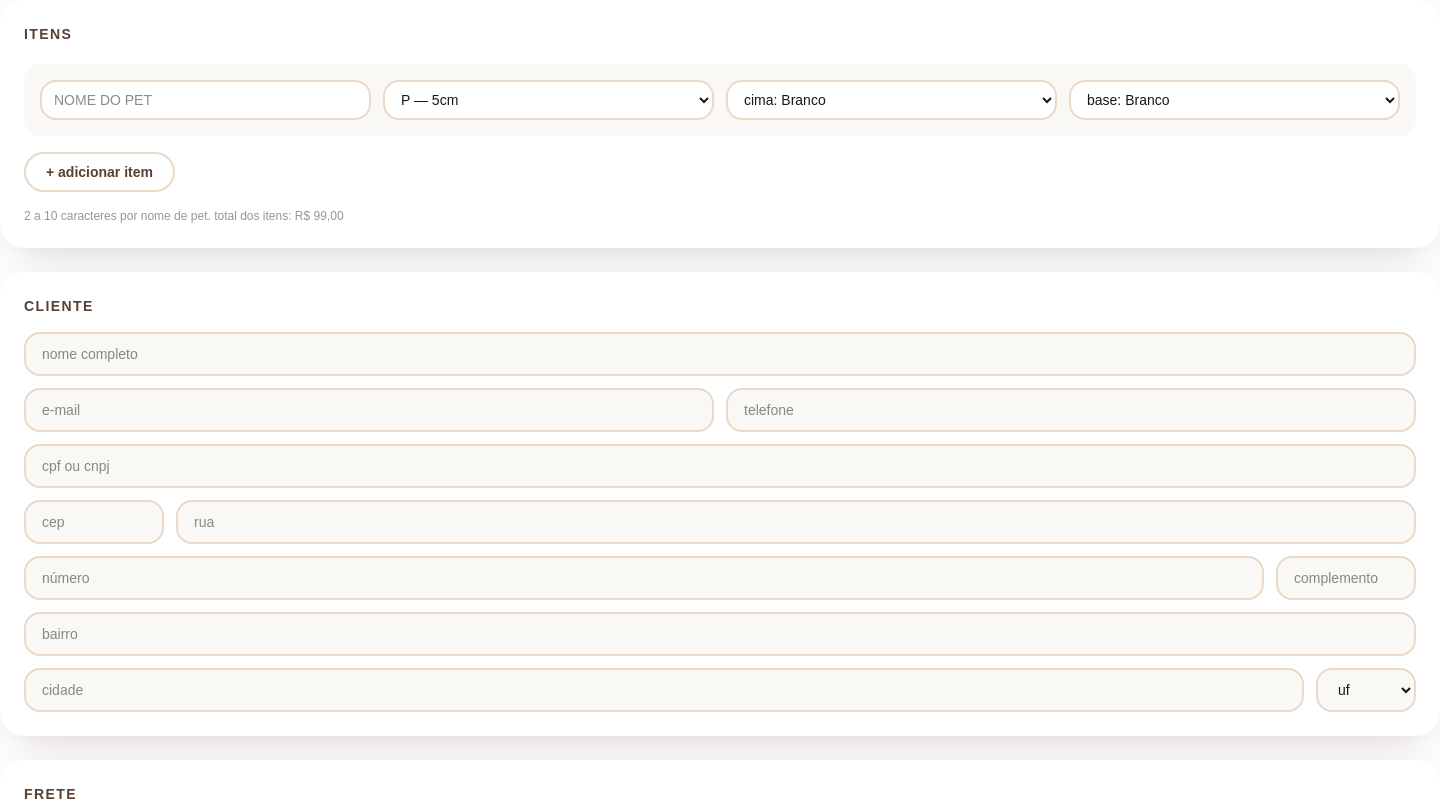
NovoPedidoForm — itens › trocar o tamanho recalcula o total
Select "G — 15cm" in the 1st dropdown showing "P — 5cm": (548, 100) [383,80,714,120]
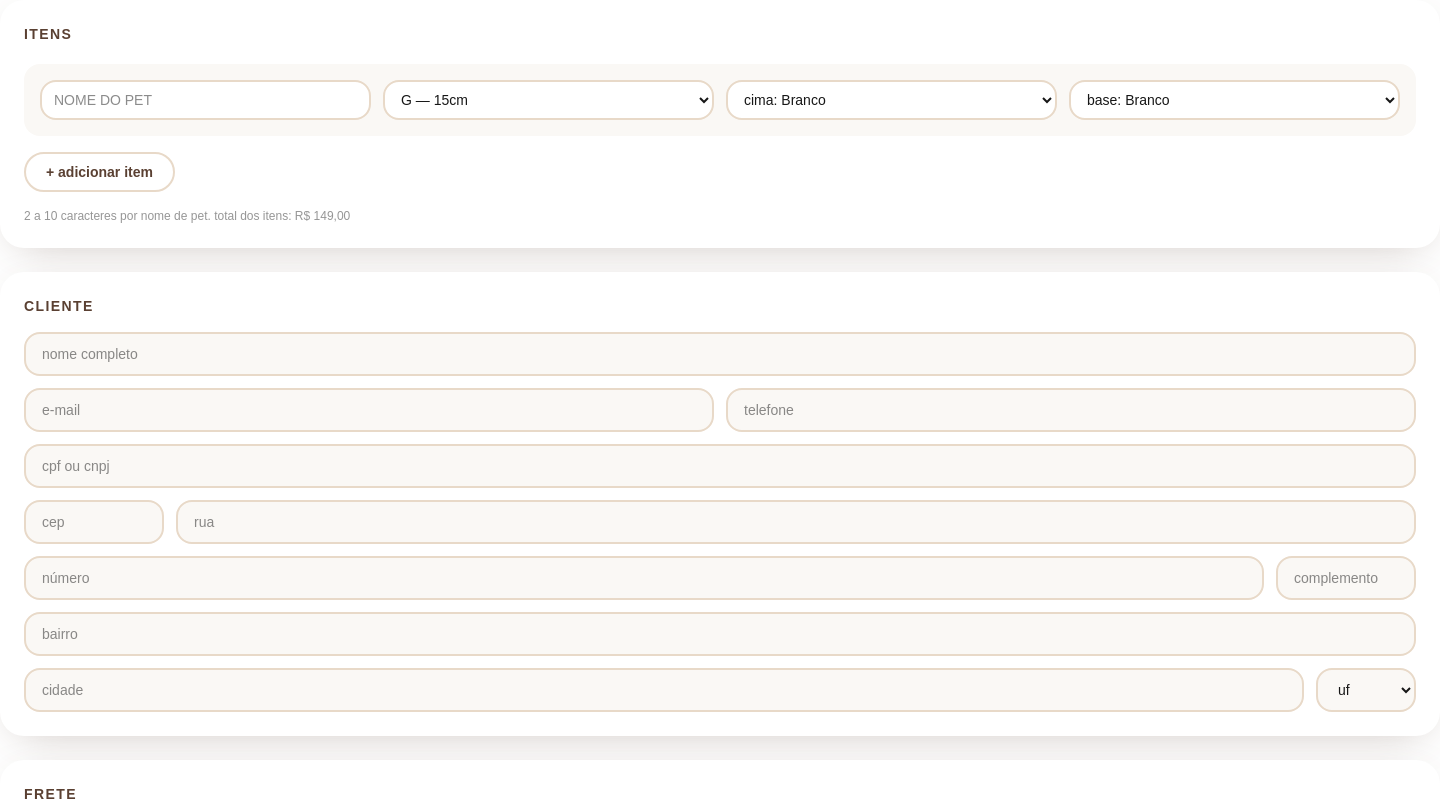
Expected: the text "total dos itens: R$ 149,00" is shown, [24,209,350,223]
